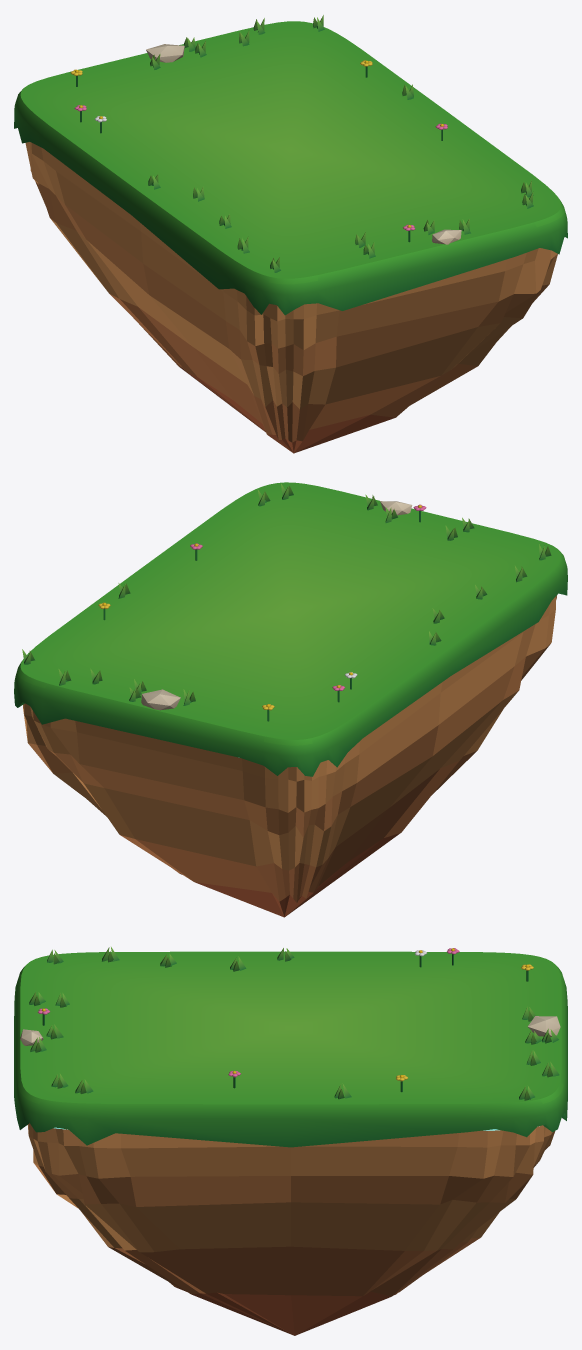
The model's file is PLAT_Isle_M.glb.
3 renders of one model, top to bottom at view 1: azimuth 30°, elevation 25°; view 2: azimuth 150°, elevation 25°; view 3: azimuth 270°, elevation 25°, orthographic.
Parts seen in each view (by area): view 1: Ground; view 2: Ground; view 3: Ground.
Boxes of the visible parts, left/top/right/bottom form: Ground: left=14, top=15, right=567, bottom=453; Ground: left=14, top=482, right=567, bottom=917; Ground: left=14, top=947, right=567, bottom=1335.
Size of the model in its own units: 4.1 by 3.95 by 6.14.
